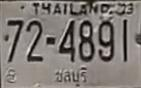1: (122, 18, 127, 62)
2: (25, 19, 42, 62)
4: (58, 19, 74, 61)
7: (6, 19, 23, 62)
8: (78, 19, 94, 61)
9: (97, 20, 114, 61)
CBI: (53, 65, 89, 86)
